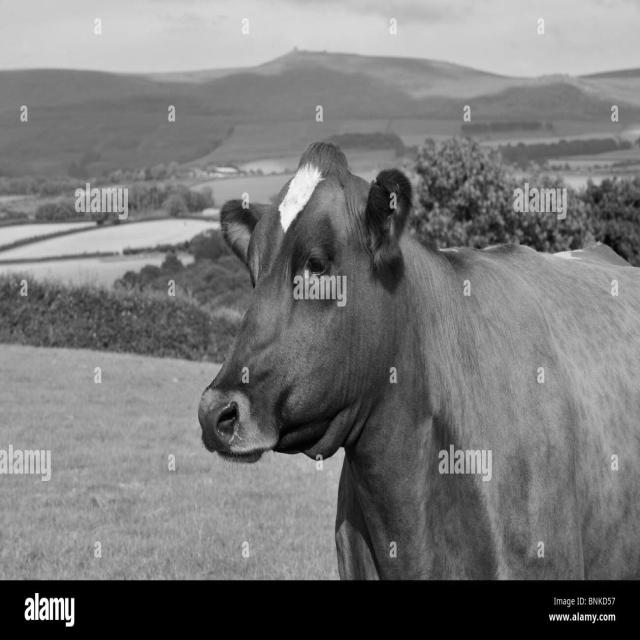Cow: (196, 138, 638, 580)
